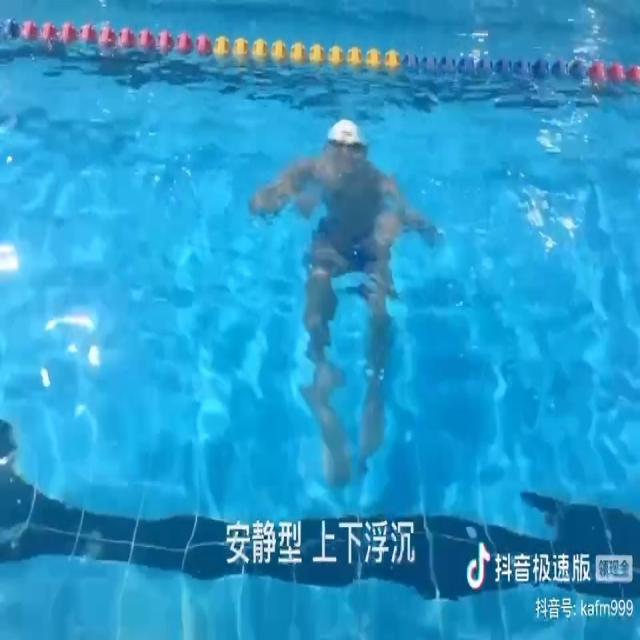Drowning: (246, 122, 438, 486)
